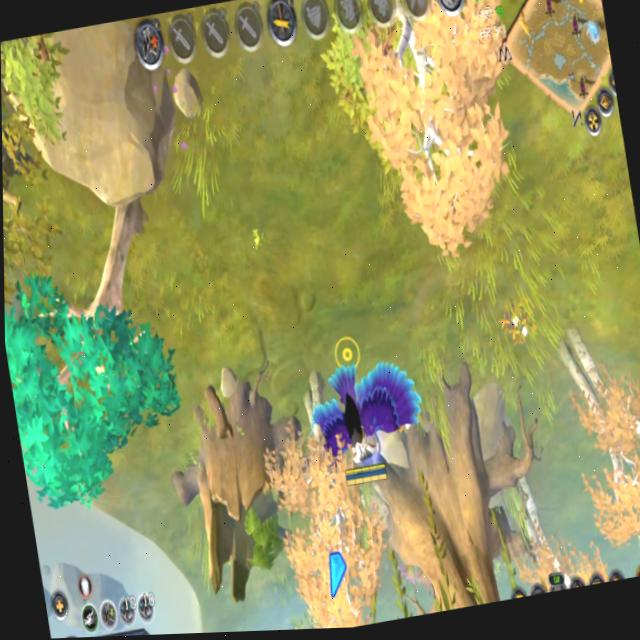hide: (497, 288, 542, 357)
red: (296, 330, 436, 495)
wisp caged: (3, 176, 199, 518), (337, 0, 551, 275), (247, 346, 404, 631), (550, 305, 640, 582), (497, 448, 616, 598)
